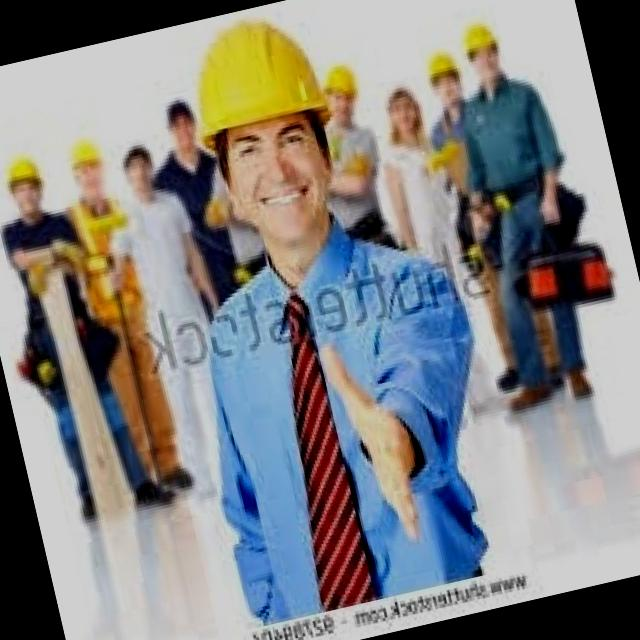boots: (495, 361, 566, 426), (119, 464, 180, 518), (554, 349, 597, 406)
helmet: (167, 2, 341, 175), (446, 3, 507, 65), (313, 55, 368, 115), (0, 137, 53, 199), (412, 35, 467, 92), (55, 125, 112, 179)
